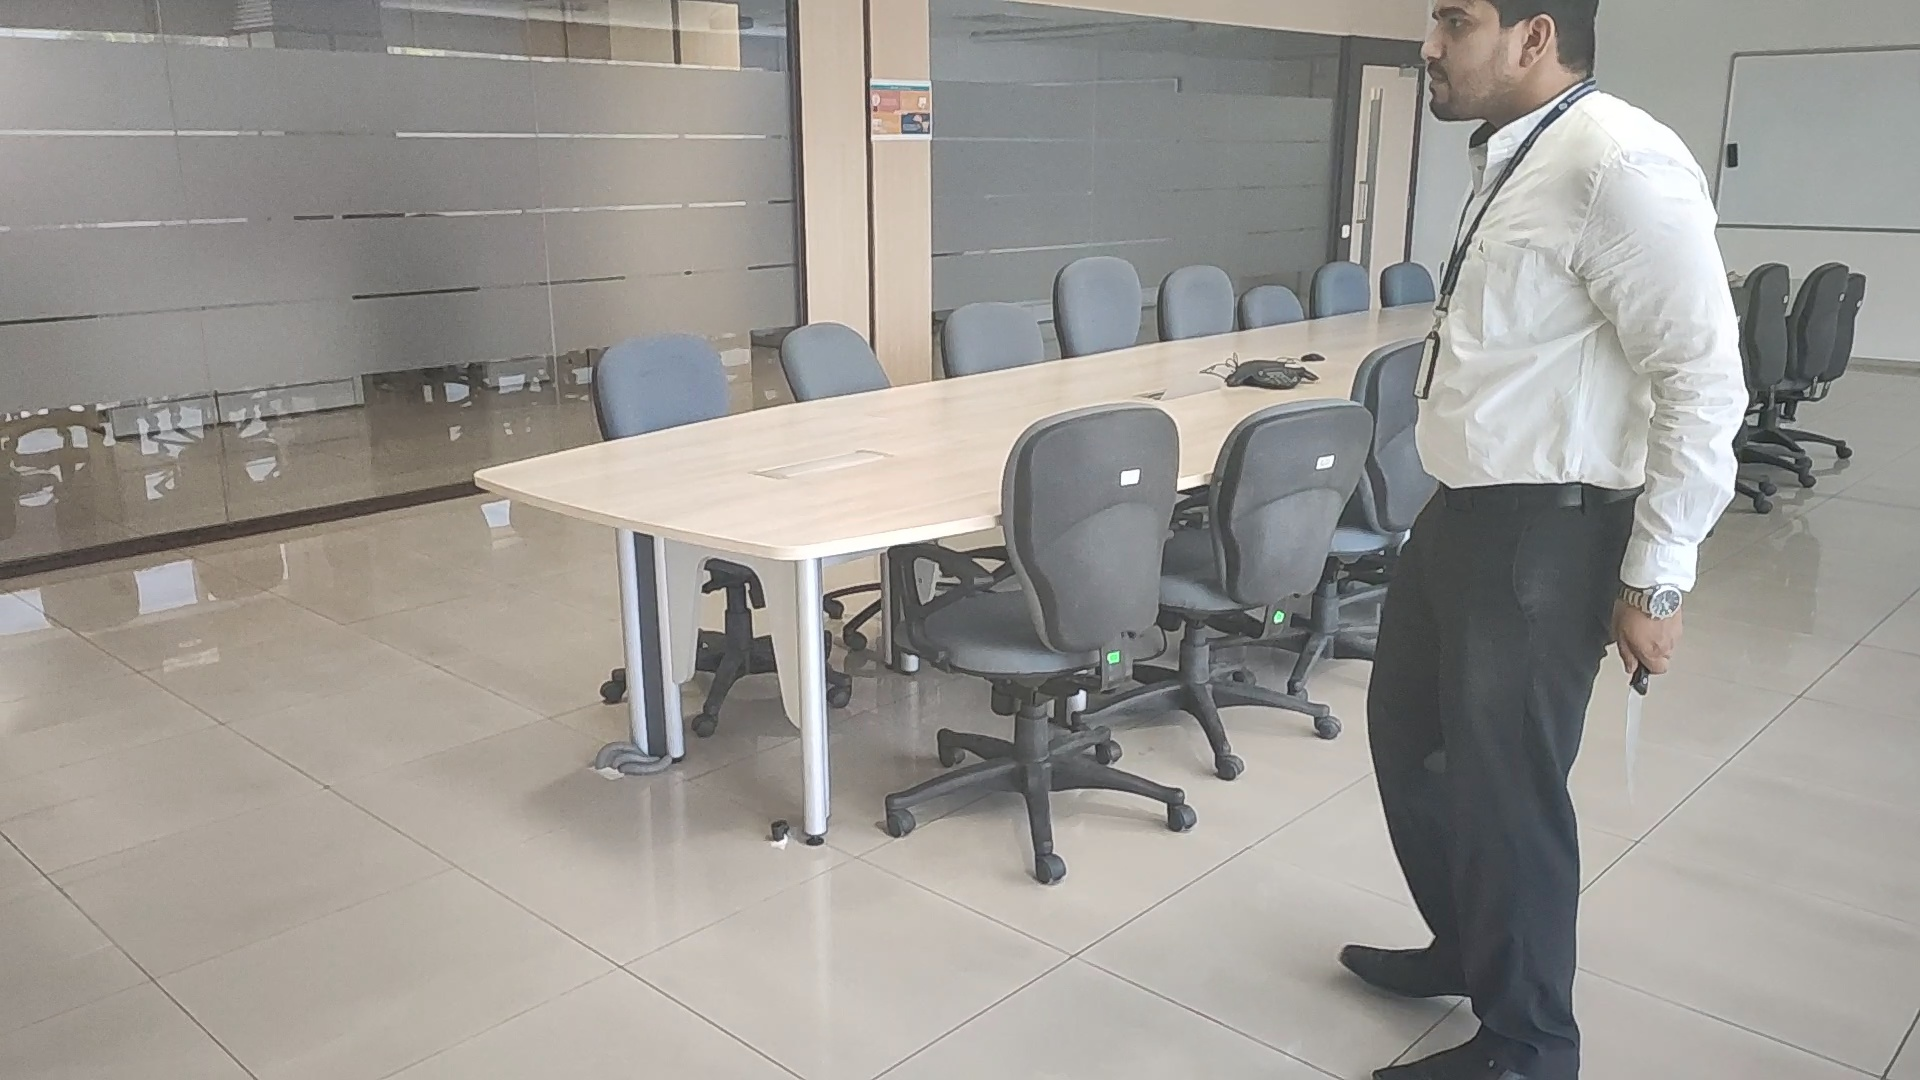knife: (1626, 674, 1644, 806)
